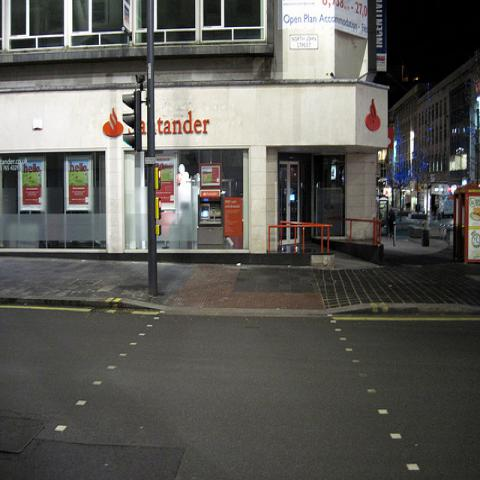car: (436, 200, 454, 220), (439, 215, 453, 240), (406, 212, 428, 226)
